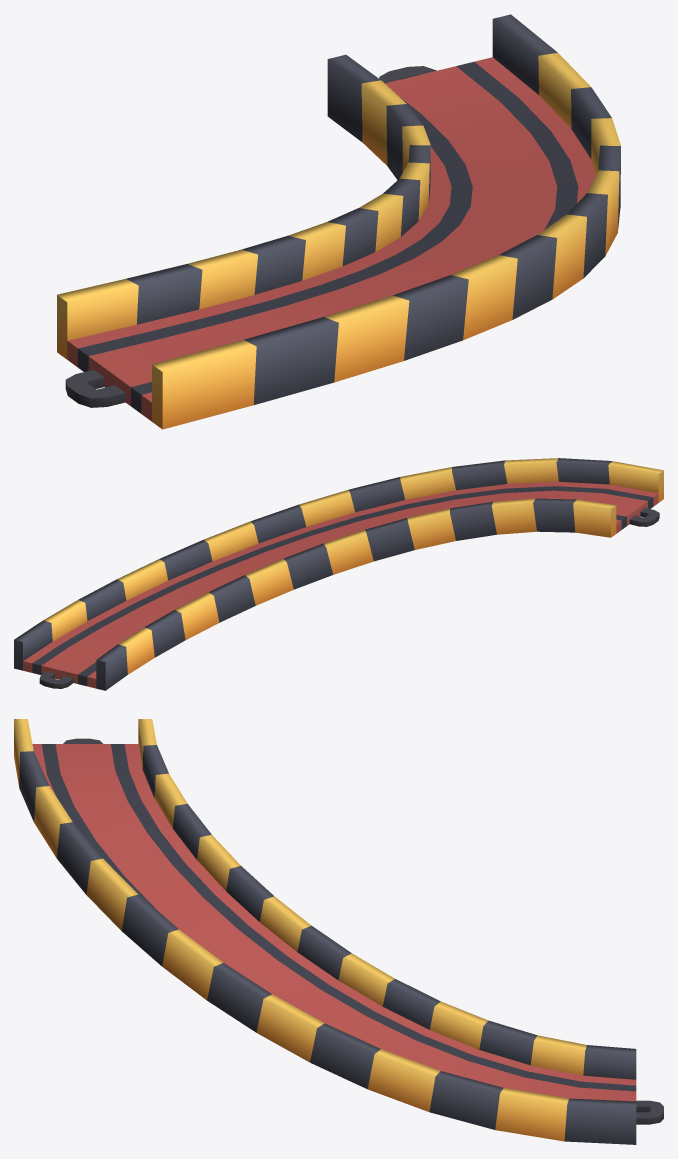
Rendered from track-road-narrow-corner-large-ramp.fbx.
3 renders of one model, top to bottom at view 1: azimuth 30°, elevation 25°; view 2: azimuth 150°, elevation 25°; view 3: azimuth 270°, elevation 25°, orthographic. The views are drawn at different scales.
Visible parts, largest first — view 1: track-road-narrow-corner-large-ramp; view 2: track-road-narrow-corner-large-ramp; view 3: track-road-narrow-corner-large-ramp.
Boxes of the visible parts, <box> form: track-road-narrow-corner-large-ramp: <box>57,14,620,429</box>; track-road-narrow-corner-large-ramp: <box>14,458,663,690</box>; track-road-narrow-corner-large-ramp: <box>14,719,663,1144</box>.
Size of the model in its own units: 470 by 130 by 470.
